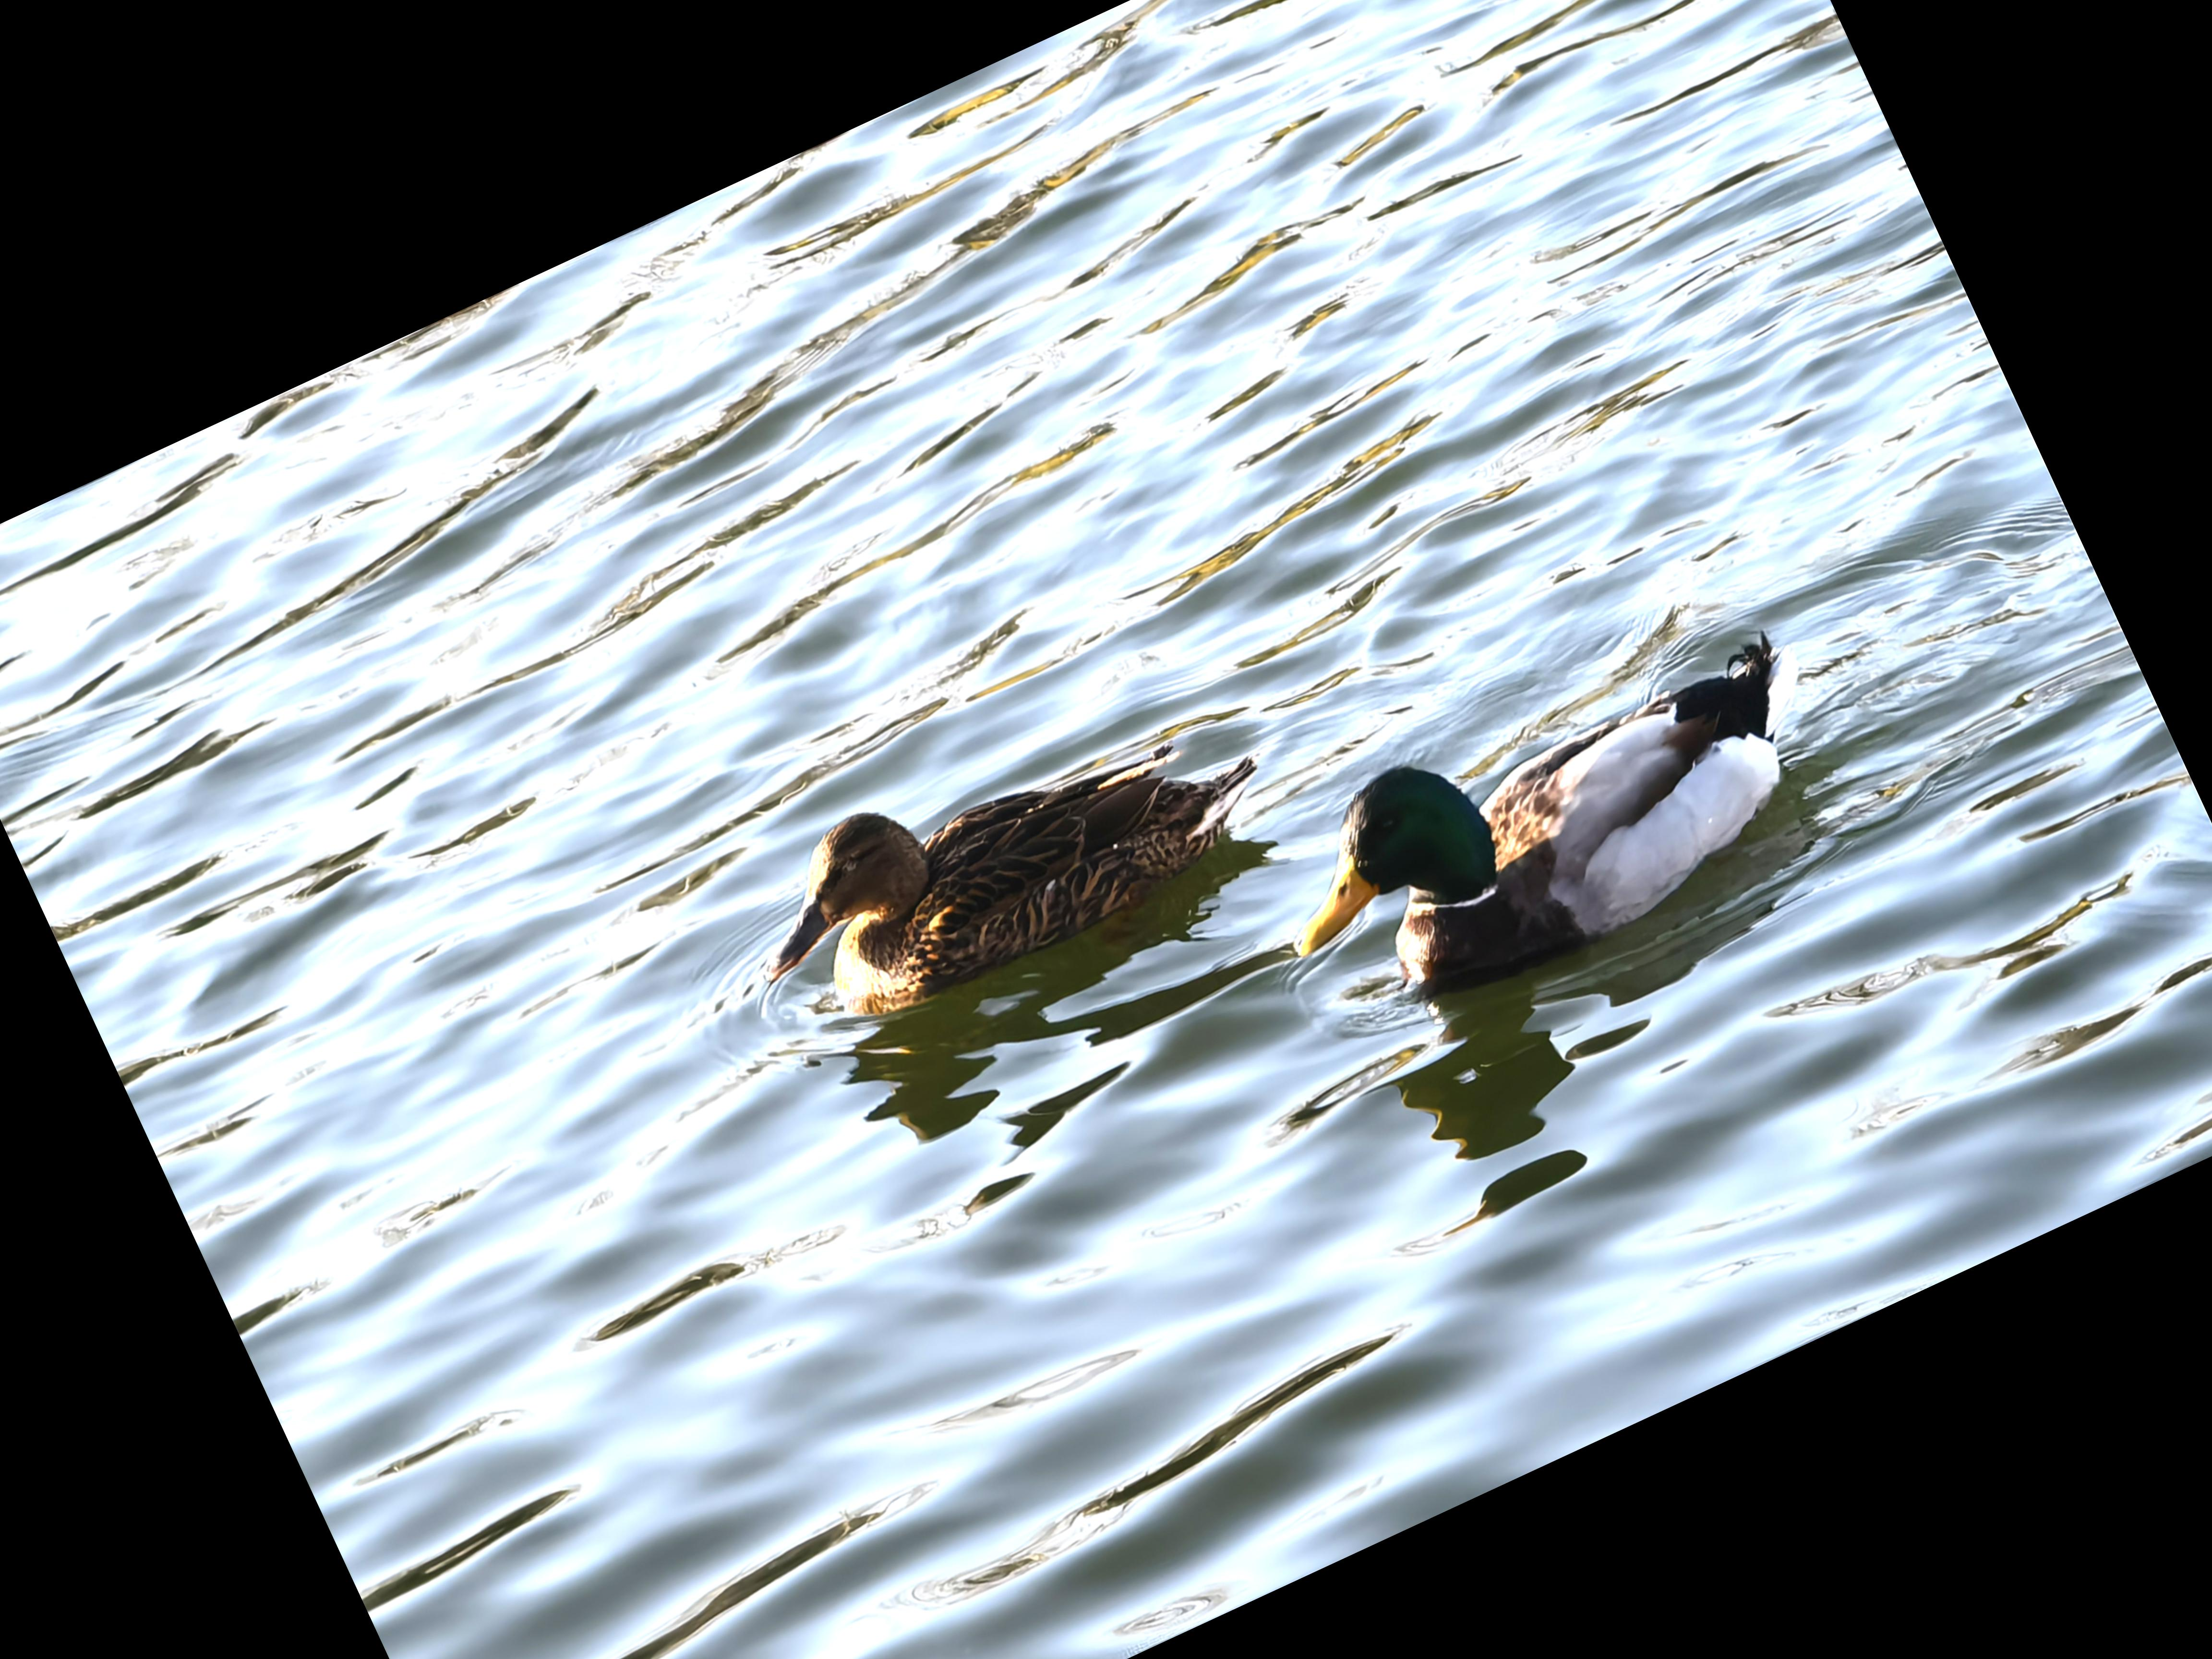duck: (1217, 556, 1905, 1091), (702, 629, 1315, 1094)
